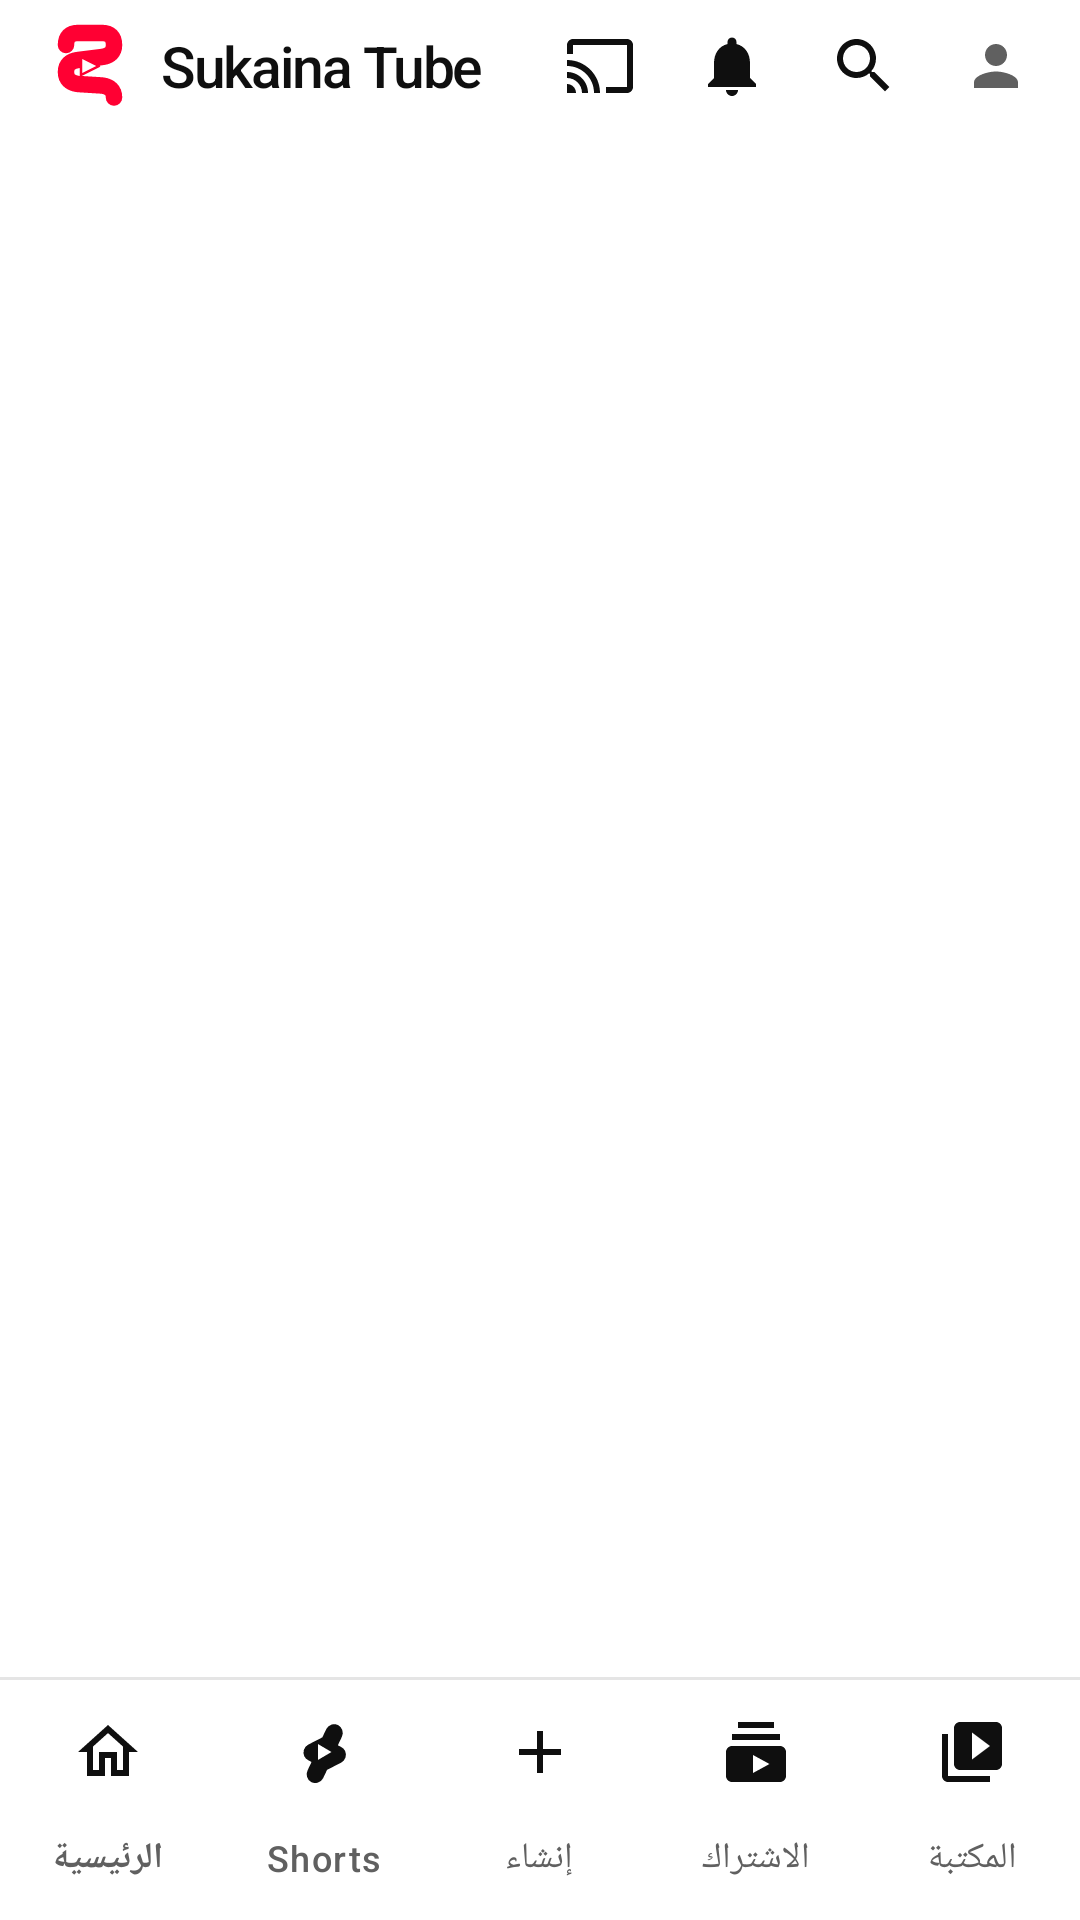

Where icons sit on this 1080w x 1920h app screen, as bbox(x1, y1, x2, y2):
أنت: bbox(974, 44, 1018, 88)
الإشعارات: bbox(708, 37, 756, 96)
بث: bbox(567, 39, 633, 93)
بحث: bbox(837, 39, 889, 91)
